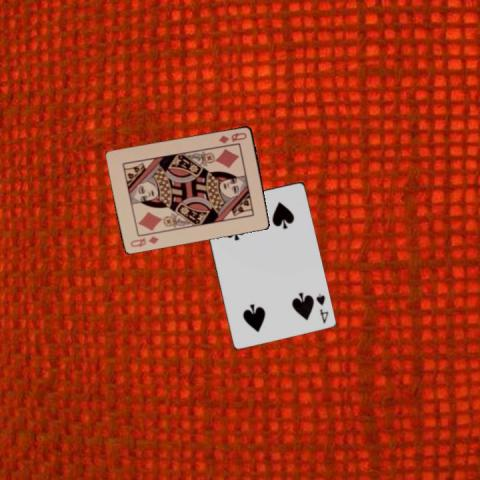4s: (313, 290, 329, 325)
Qd: (216, 129, 248, 145), (127, 233, 160, 248)
